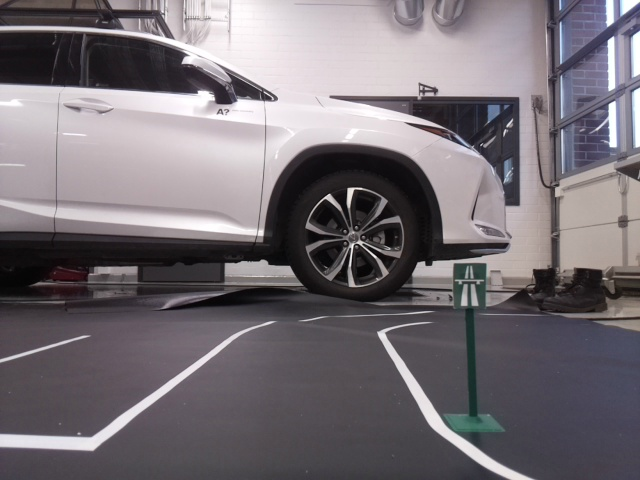HighwayEntrance: (452, 261, 487, 307)
